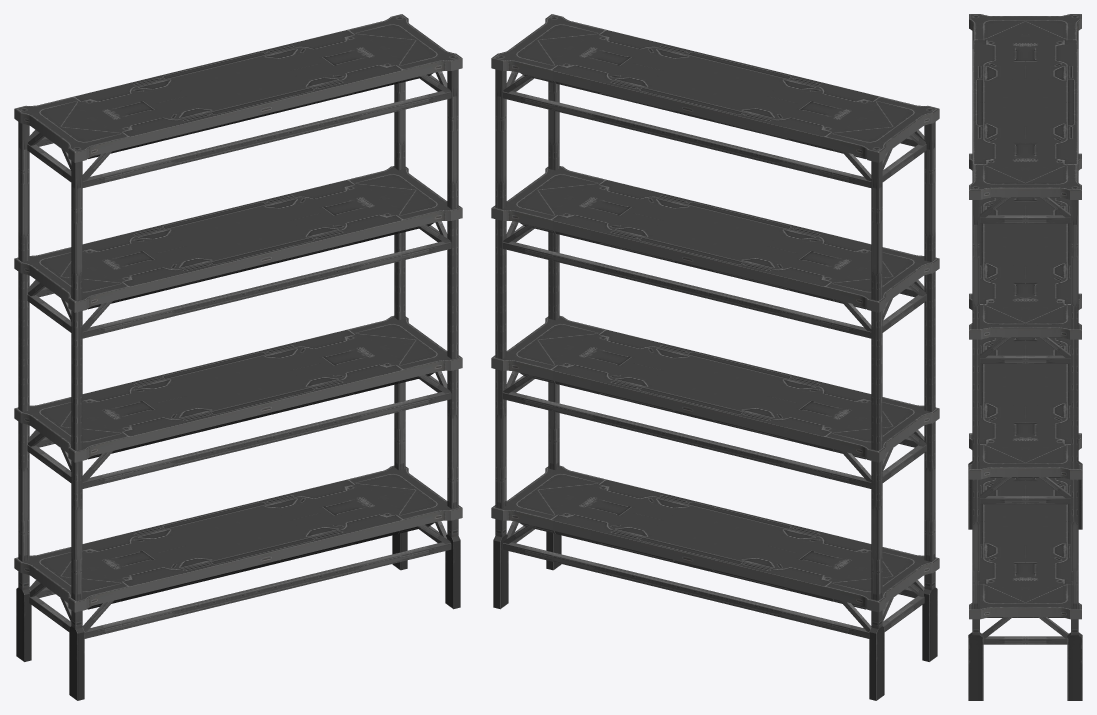
Rendered from Prop_Shelves_WideTall.glb.
3 views of the same model, side by side, from view 1: azimuth 30°, elevation 25°; view 2: azimuth 150°, elevation 25°; view 3: azimuth 270°, elevation 25° (orthographic). The views are drawn at different scales.
Parts seen in each view (by area): view 1: Prop_Shelves_WideTall; view 2: Prop_Shelves_WideTall; view 3: Prop_Shelves_WideTall.
Part boxes in pixels (x1=…): Prop_Shelves_WideTall: x1=14, y1=14, x2=462, y2=700; Prop_Shelves_WideTall: x1=491, y1=14, x2=939, y2=700; Prop_Shelves_WideTall: x1=968, y1=14, x2=1082, y2=700.
Size of the model in its own units: 1.98 by 2.67 by 0.5407.
1 material, 1 textured.
